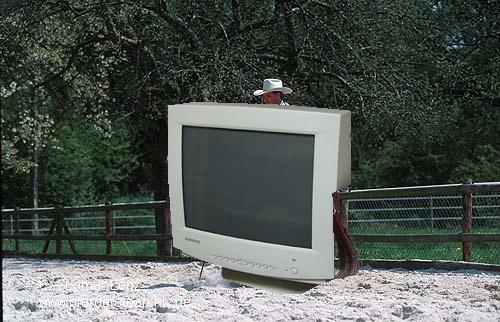tampered: (169, 103, 351, 294)
